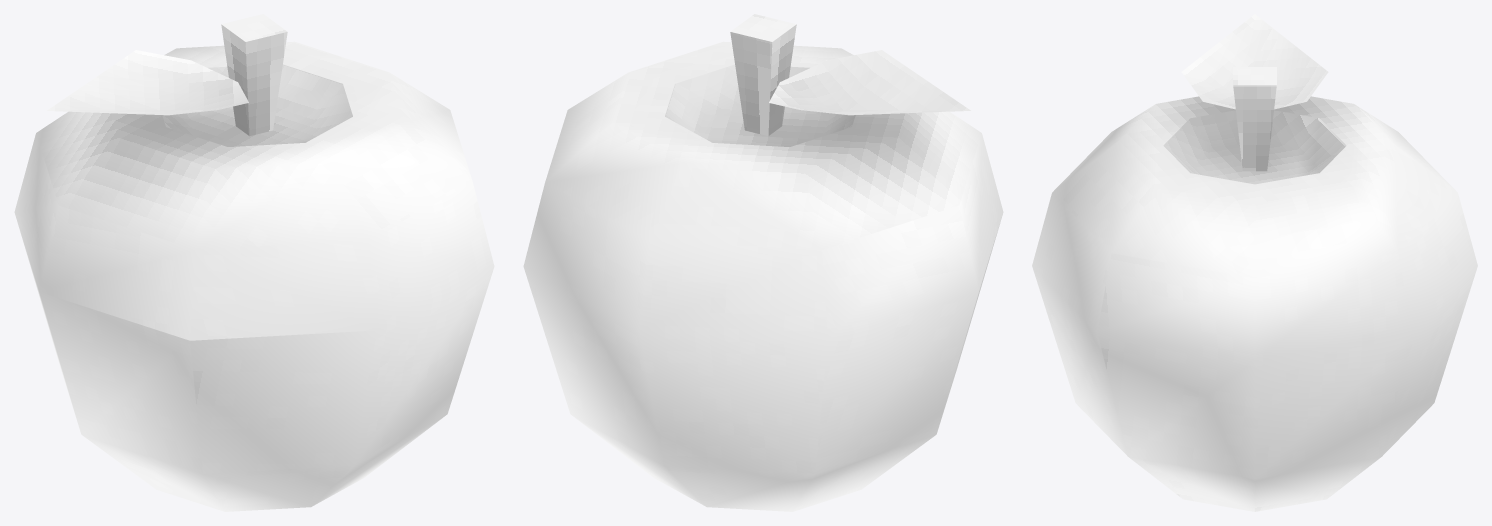
The model's file is apple.glb.
3 views of the same model, side by side, from view 1: azimuth 30°, elevation 25°; view 2: azimuth 150°, elevation 25°; view 3: azimuth 270°, elevation 25° (orthographic). The views are drawn at different scales.
Parts seen in each view (by area): view 1: apple, apple.002, apple.001; view 2: apple, apple.002, apple.001; view 3: apple, apple.002, apple.001.
Boxes of the visible parts, x1,y1,x2,y2 form: apple: (14, 41, 494, 511); apple.002: (47, 50, 248, 115); apple.001: (221, 14, 287, 136); apple: (523, 41, 1003, 511); apple.002: (769, 50, 970, 115); apple.001: (730, 14, 796, 136); apple: (1032, 96, 1477, 511); apple.002: (1181, 14, 1328, 109); apple.001: (1233, 67, 1276, 171).
Bounding box in the file's own units: 0.1202 × 0.1168 × 0.1202.
Materials: 1 (1 with a texture image).
